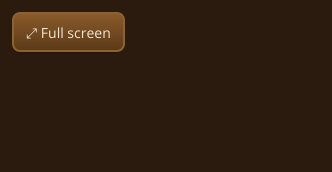
Test case: full screen button › uses the Fullscreen API where available (Android Chrome, desktop) and toggles
The width and height of the screenshot is (332, 172).
Click the button "⤢ Full screen" at (68, 32), box [12,12,125,52]
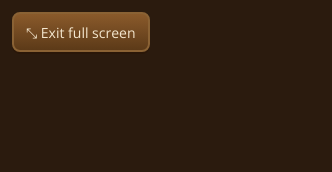
Expected: the button "⤡ Exit full screen" is shown
Click the button "⤡ Exit full screen" at (81, 32), box [12,12,150,52]
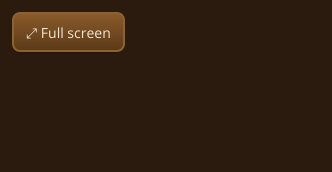
Expected: the button "⤢ Full screen" is shown, [12,12,125,52]
